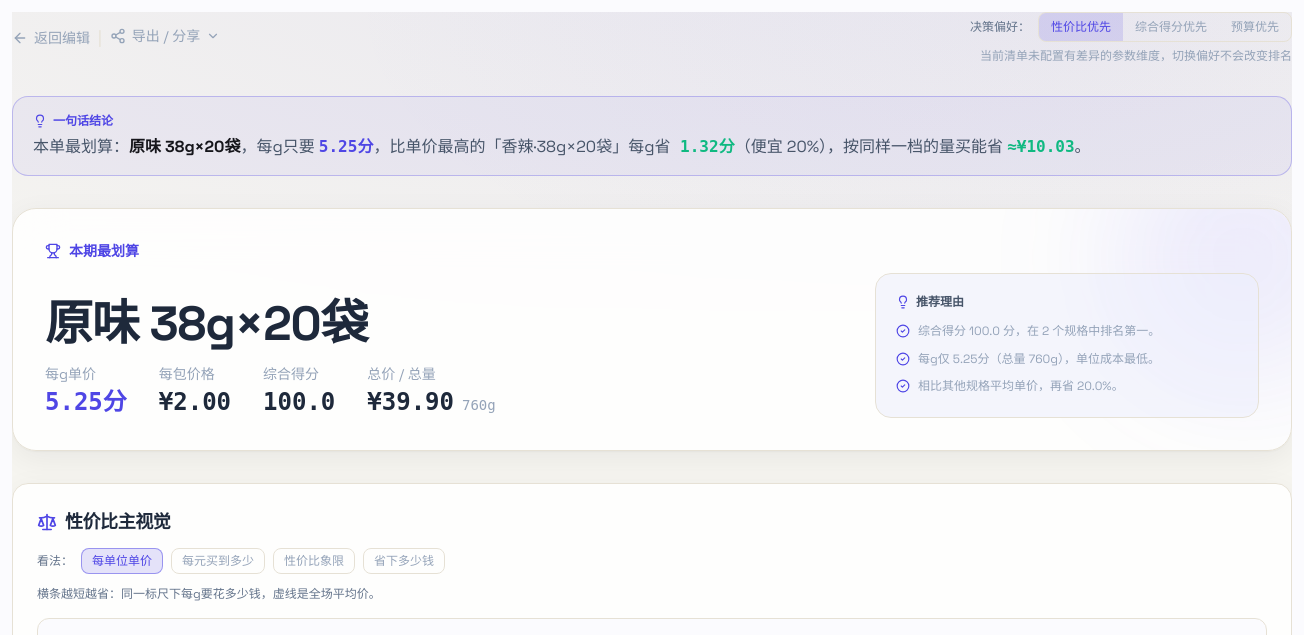
Test case: Report 导出 / 分享菜单 › 默认收起，点击入口后展开各个动作
Expected: the text "复制文字摘要" is not shown
Click the button "导出 / 分享": (165, 36) x1=110 y1=26 x2=220 y2=46
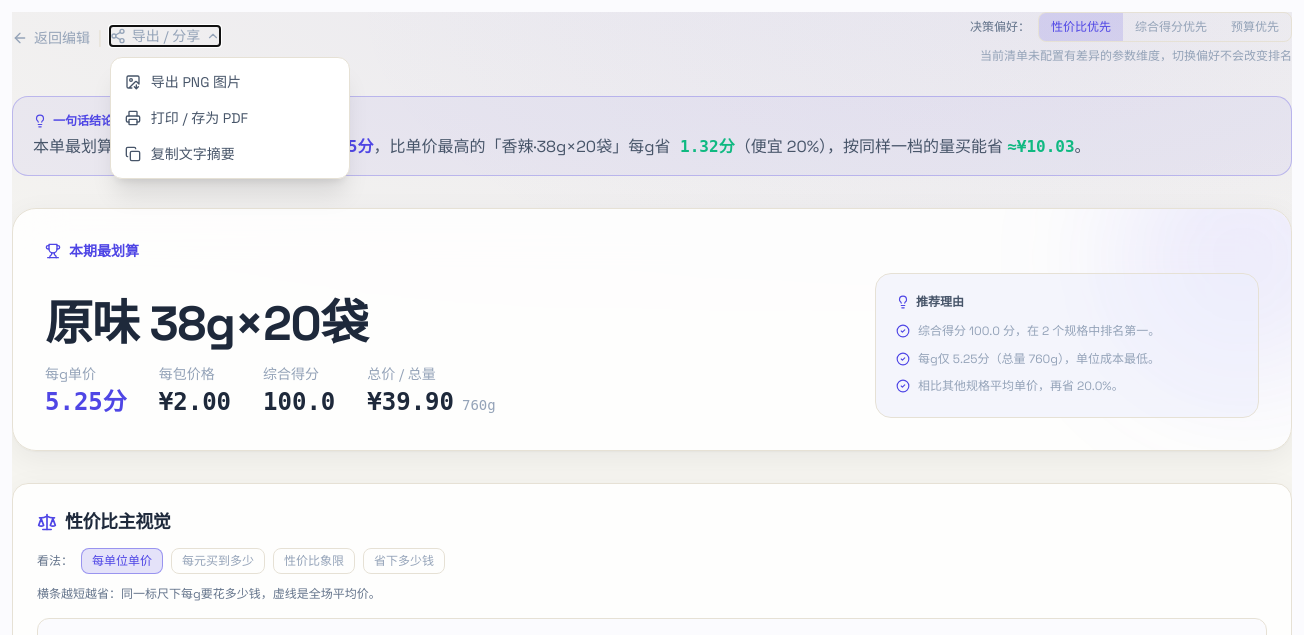
Expected: the button "导出 PNG 图片" is shown, x1=111 y1=64 x2=349 y2=100
Expected: the button "打印 / 存为 PDF" is shown, x1=111 y1=100 x2=349 y2=136
Expected: the text "复制文字摘要" is shown, x1=151 y1=144 x2=235 y2=164
